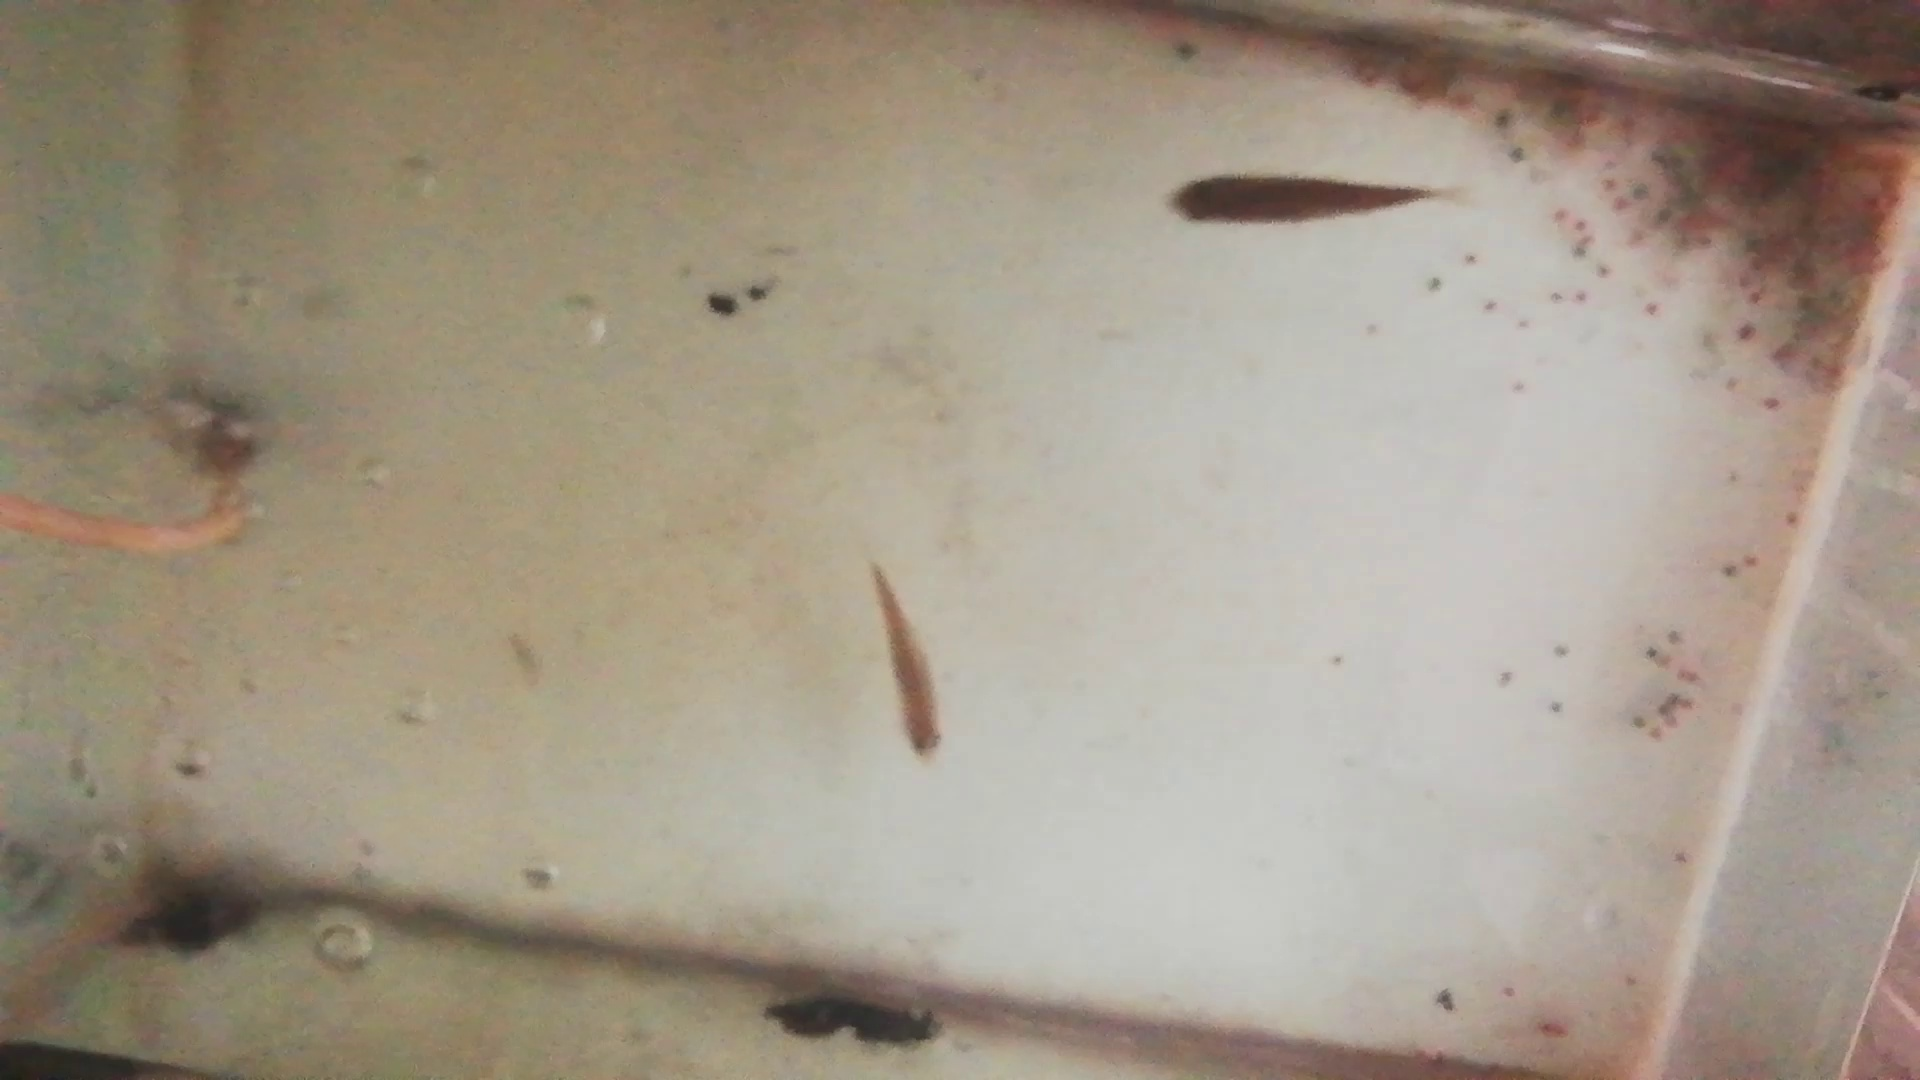fish: (866, 566, 942, 764), (1156, 179, 1432, 229)
